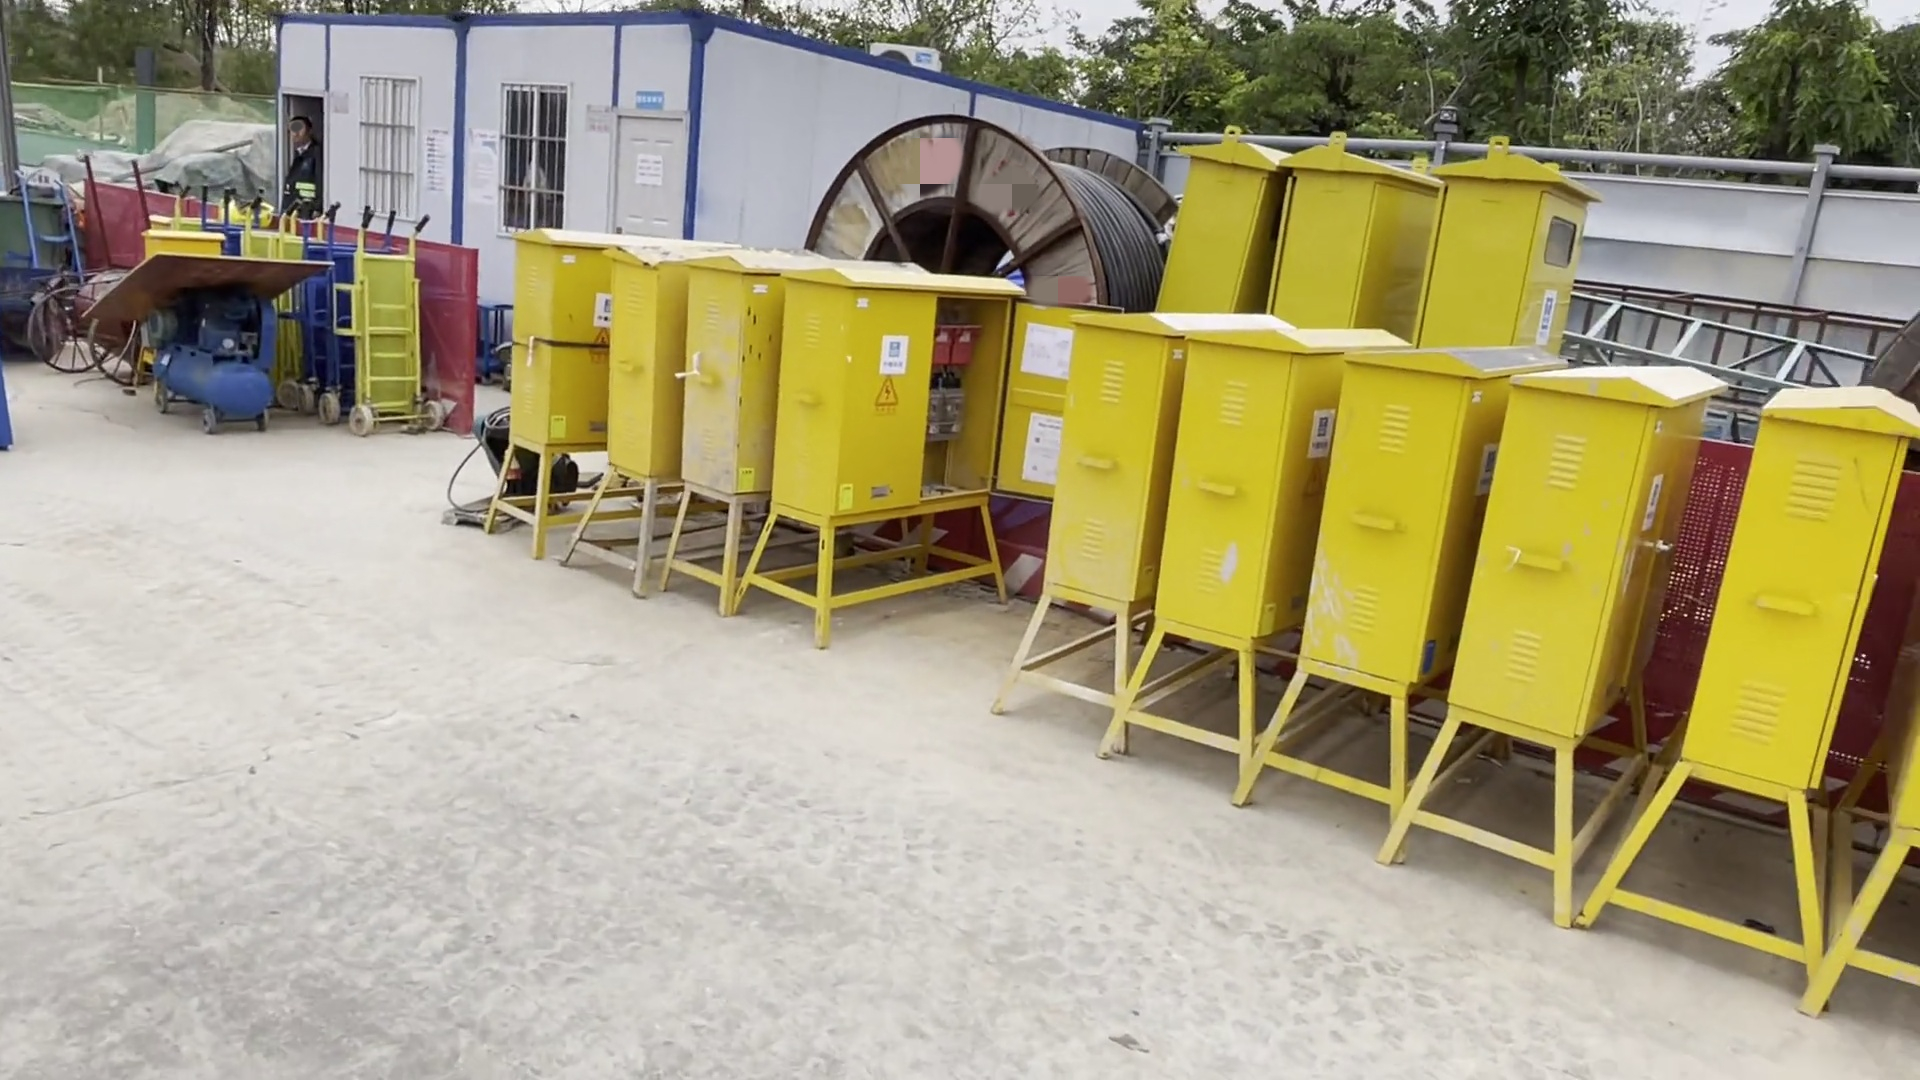ebox: (1590, 398, 1908, 935), (1382, 372, 1716, 862), (1234, 359, 1564, 808), (1104, 338, 1402, 752), (1001, 319, 1278, 709), (775, 249, 1007, 624), (659, 241, 811, 593), (560, 233, 705, 572), (489, 214, 620, 579), (1408, 135, 1578, 360), (1276, 146, 1418, 342), (1139, 133, 1269, 309)
handcart: (22, 153, 164, 392)
